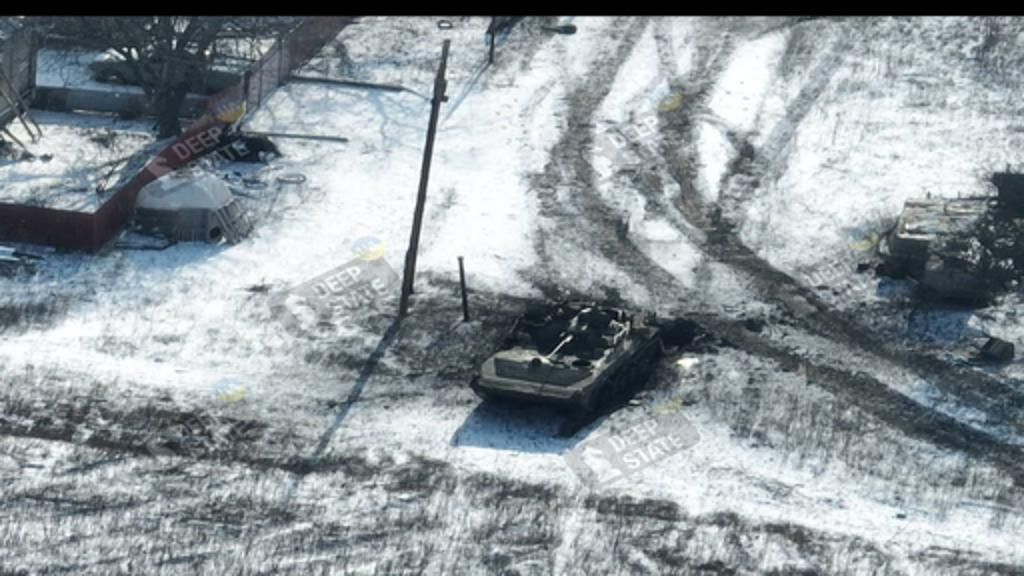APC-IFV: (462, 270, 682, 426)
